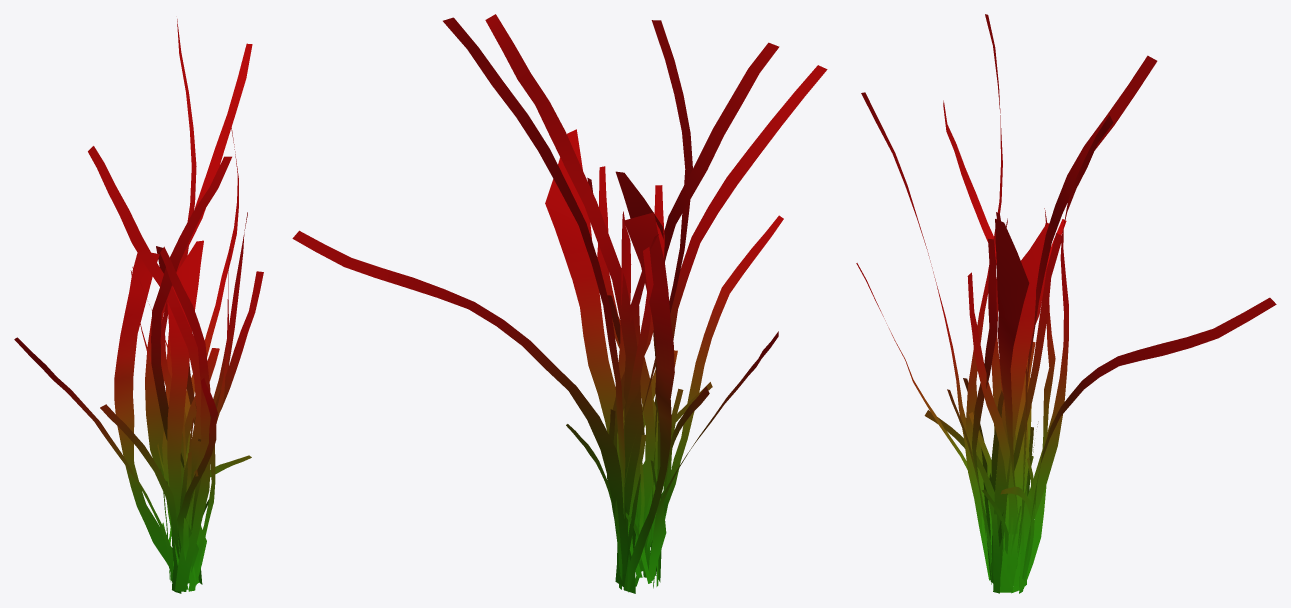
The model's file is SM_Dry_Wheatgrass_04.FBX.
The picture shows the model from 3 angles, left to right: view 1: azimuth 30°, elevation 25°; view 2: azimuth 150°, elevation 25°; view 3: azimuth 270°, elevation 25°; orthographic projection. The views are drawn at different scales.
Visible parts, largest first — view 1: SM_Dry_Wheatgrass_04; view 2: SM_Dry_Wheatgrass_04; view 3: SM_Dry_Wheatgrass_04.
Part boxes in pixels (x1,y1,x2,y2): SM_Dry_Wheatgrass_04: [14, 19, 263, 593]; SM_Dry_Wheatgrass_04: [292, 14, 827, 593]; SM_Dry_Wheatgrass_04: [856, 14, 1276, 593].
Bounding box in the file's own units: 30.24 × 32.21 × 47.65.
